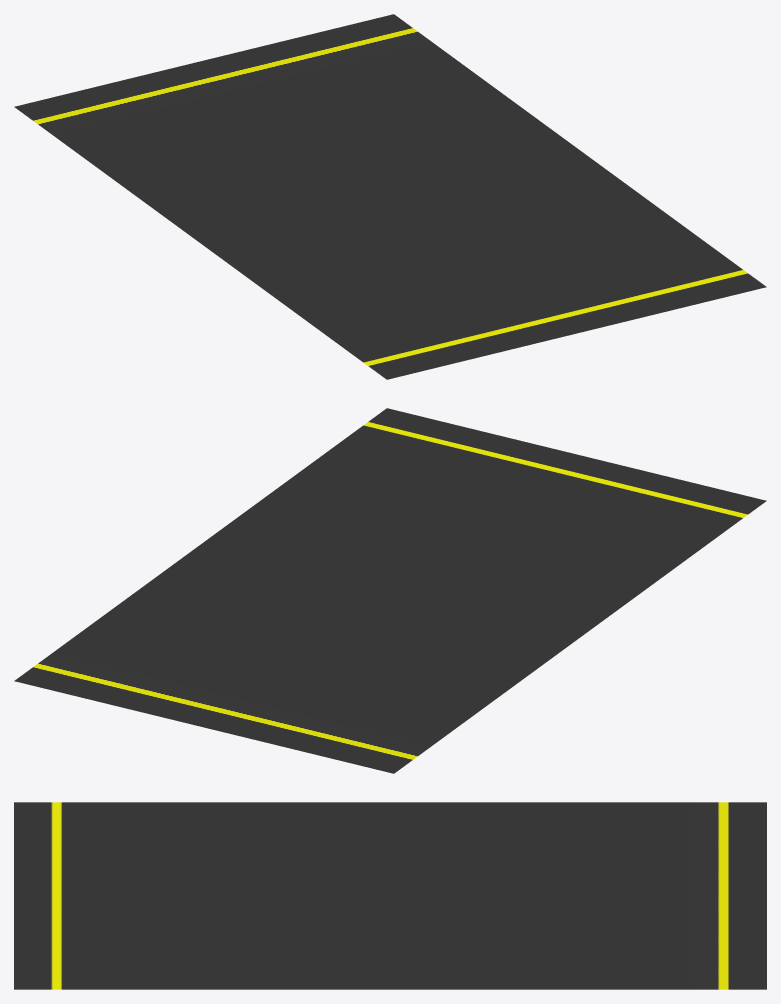
File: connecter_10m_without_lines.dae
3 renders of one model, top to bottom at view 1: azimuth 30°, elevation 25°; view 2: azimuth 150°, elevation 25°; view 3: azimuth 270°, elevation 25°, orthographic.
Visible parts, largest first — view 1: Plane; view 2: Plane; view 3: Plane.
Part boxes in pixels (bbox=[...]): Plane: bbox=[14, 14, 766, 379]; Plane: bbox=[14, 408, 766, 773]; Plane: bbox=[14, 802, 766, 989].
Size of the model in its own units: 10 by 17 by 0.
Materials: 1 (1 with a texture image).
